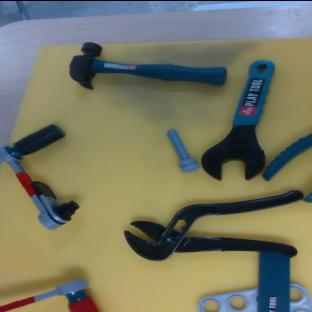non_pass: (0, 115, 104, 234)
pass: (0, 278, 99, 312)
